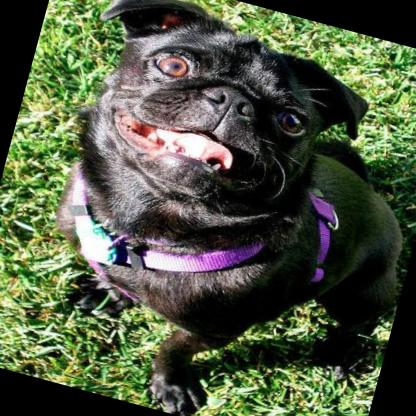pug: (1, 0, 416, 416)
